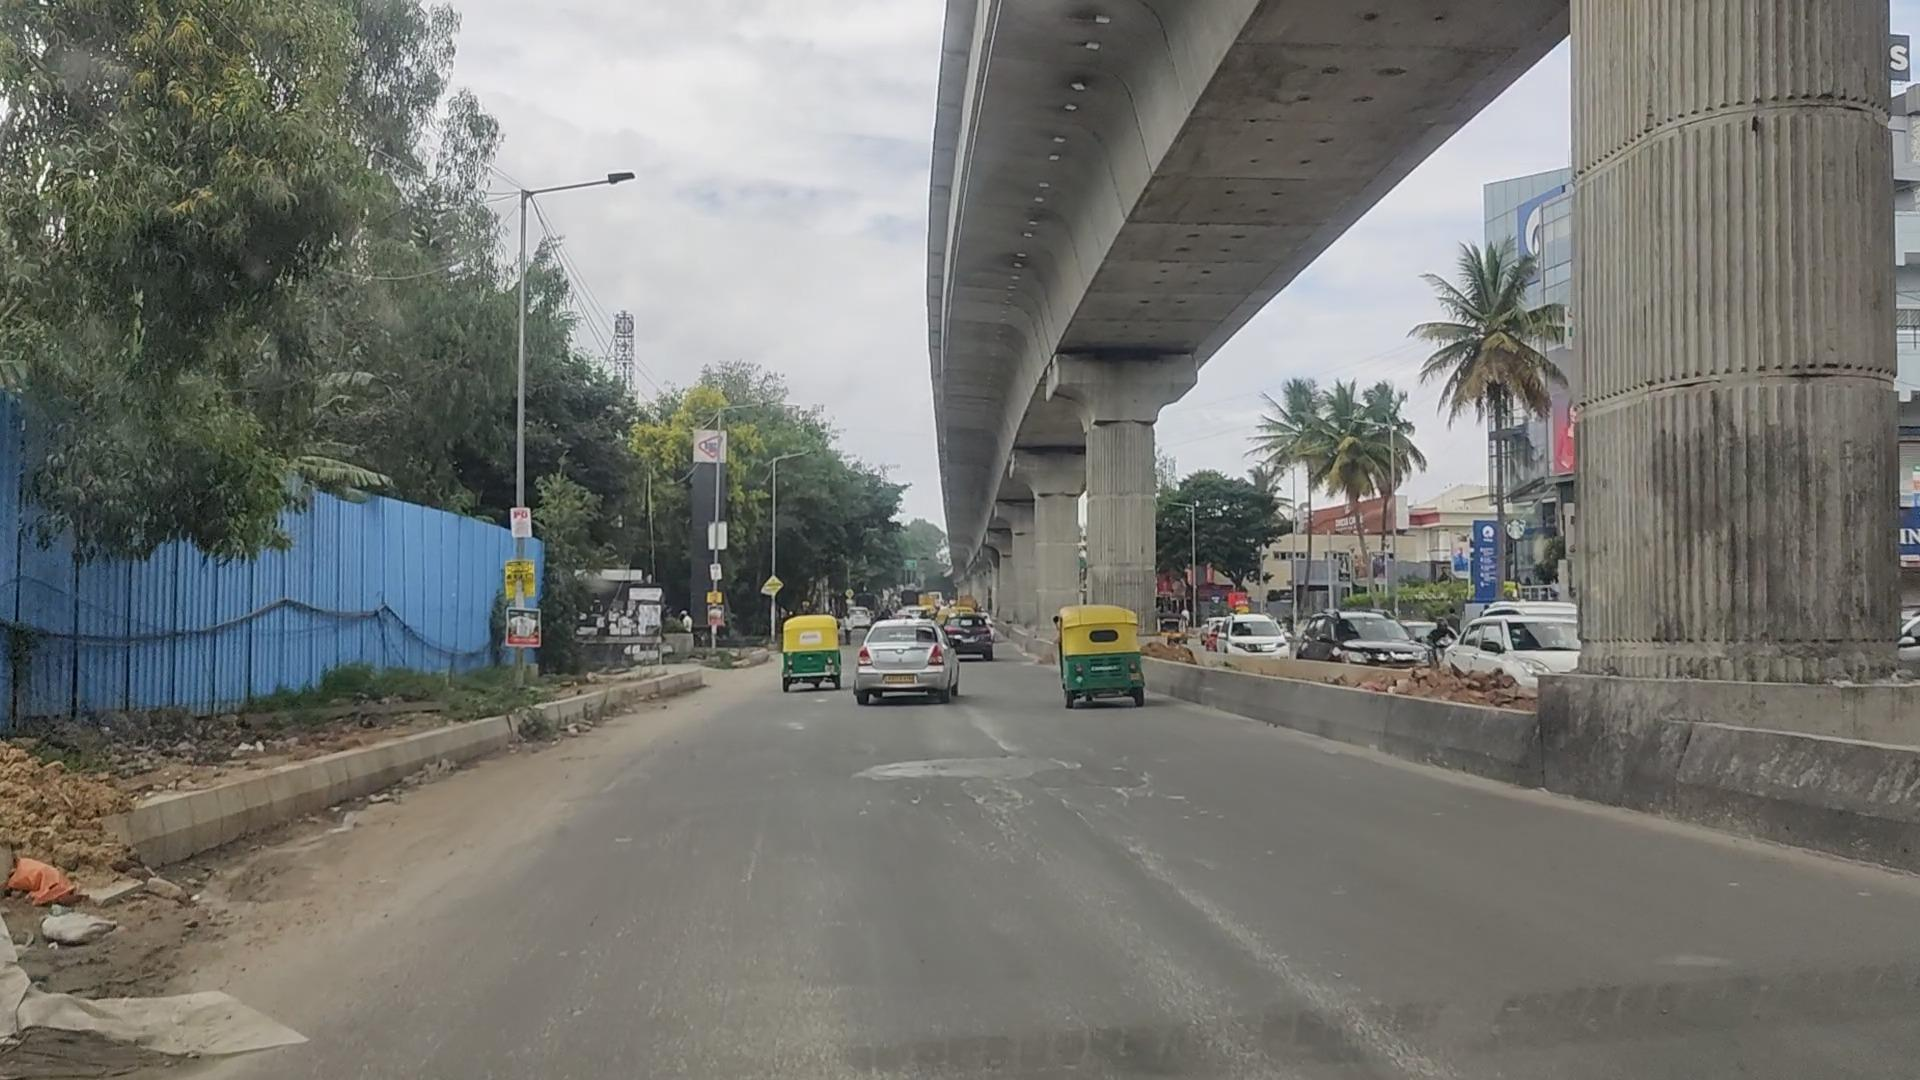LMV: (856, 616, 963, 711), (1054, 604, 1138, 712)
RoadDamages: (844, 750, 1055, 783), (1097, 758, 1167, 811), (971, 783, 1029, 843)
